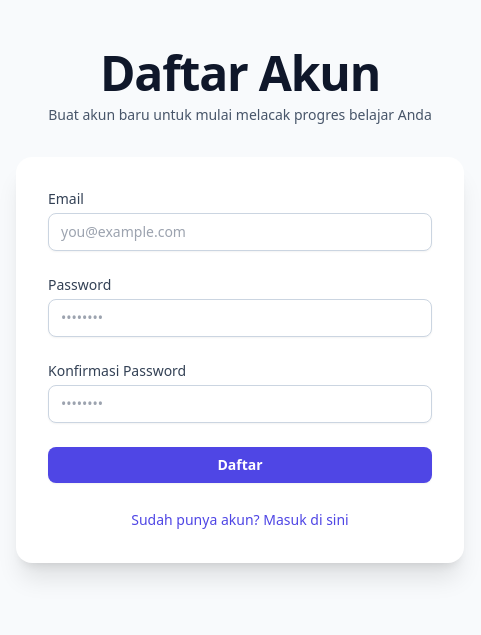
Test: RegisterPage › shows error when passwords do not match
Type "test@example.com" into the field labelled "Email" at (240,232), box [48,213,432,251]
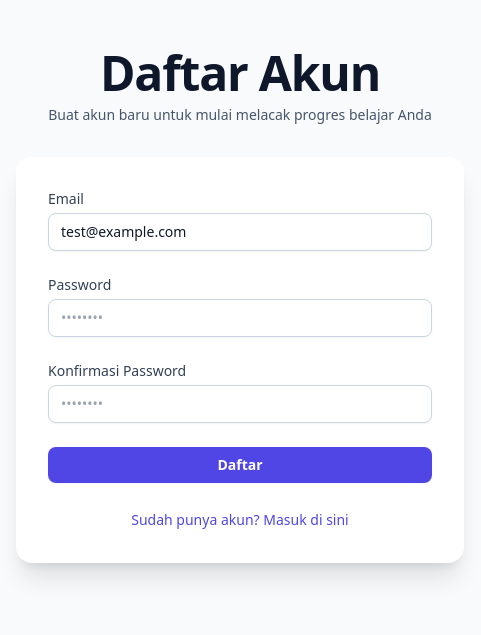
Type "password123" into the password field labelled "Password" at (240,318), box [48,299,432,337]
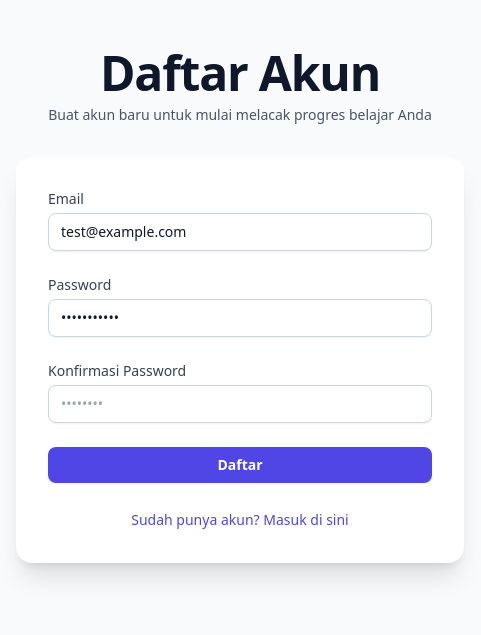
Type "different" into the password field labelled "Konfirmasi Password" at (240,404), box [48,385,432,423]
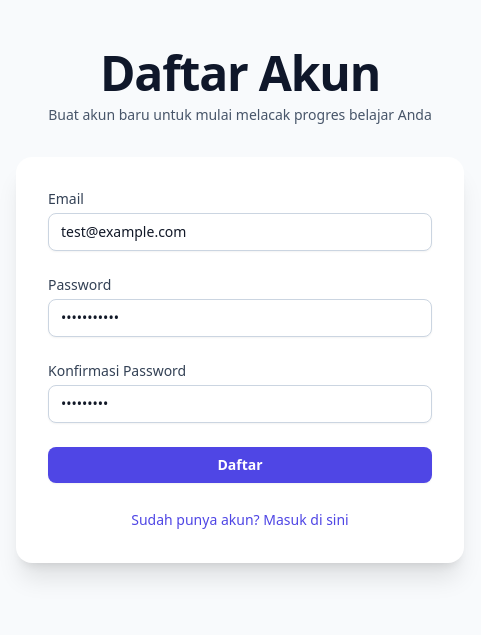
Click the button "Daftar" at (240,465), box [48,447,432,483]
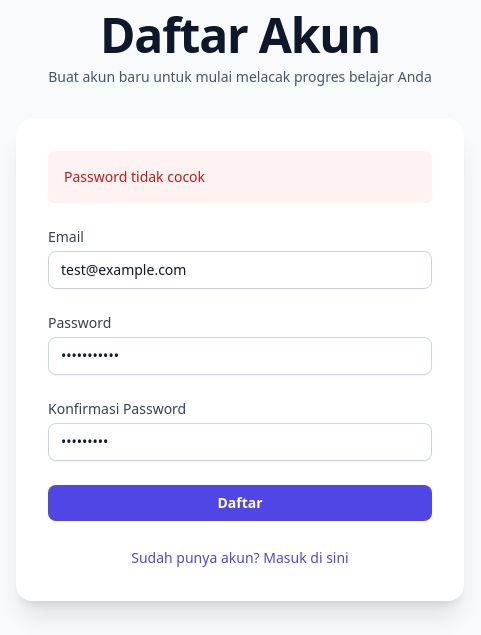
Result: the text "Password tidak cocok" is shown at [48,151,432,203]
